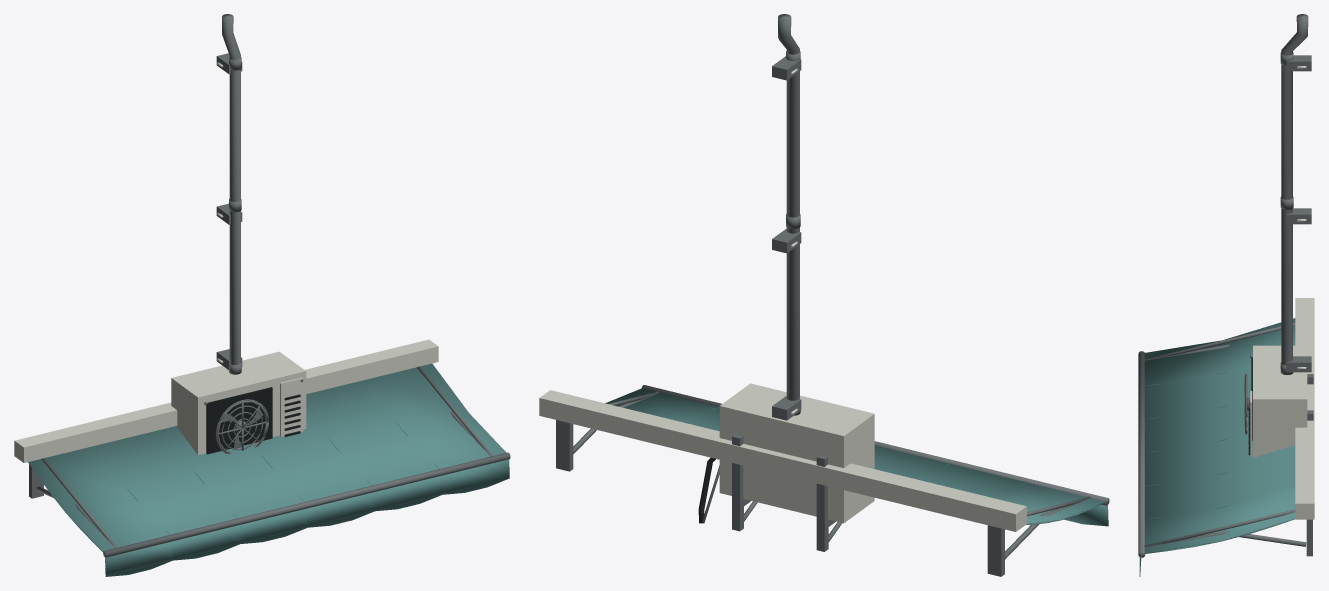
Rendered from street-kit.glb.
3 renders of one model, left to right at view 1: azimuth 30°, elevation 25°; view 2: azimuth 150°, elevation 25°; view 3: azimuth 270°, elevation 25°, orthographic. The views are drawn at different scales.
Visible parts, largest first — view 1: awning_far__canvas, awning_far__enamel, service_far__enamel, pipe_near__metal, service_near__enamel, awning_near__metal, awning_near__enamel, service_far__recess, awning_near__canvas, awning_far__metal, service_near__metal, service_near__recess (+1 smaller); view 2: service_far__enamel, awning_near__enamel, awning_far__enamel, awning_far__canvas, pipe_near__metal, service_near__enamel, awning_far__metal, awning_near__metal, service_far__metal, pipe_far__metal, awning_near__canvas; view 3: awning_far__canvas, pipe_near__metal, service_near__enamel, awning_far__enamel, service_far__enamel, awning_far__metal, awning_near__metal, awning_near__enamel, pipe_far__metal, awning_near__canvas, service_far__metal.
Part boxes in pixels (left/top/right/bottom): awning_far__canvas: left=28, top=363, right=509, bottom=576; awning_far__enamel: left=14, top=339, right=438, bottom=462; service_far__enamel: left=171, top=351, right=306, bottom=455; pipe_near__metal: left=217, top=14, right=241, bottom=374; service_near__enamel: left=172, top=352, right=304, bottom=454; awning_near__metal: left=29, top=452, right=510, bottom=557; awning_near__enamel: left=15, top=342, right=436, bottom=459; service_far__recess: left=206, top=387, right=272, bottom=453; awning_near__canvas: left=29, top=380, right=508, bottom=576; awning_far__metal: left=29, top=366, right=493, bottom=557; service_near__metal: left=204, top=379, right=303, bottom=453; service_near__recess: left=207, top=394, right=300, bottom=454; service_far__enamel: left=719, top=383, right=874, bottom=523; awning_near__enamel: left=543, top=391, right=1022, bottom=528; awning_far__enamel: left=539, top=390, right=1026, bottom=531; awning_far__canvas: left=605, top=388, right=1108, bottom=524; pipe_near__metal: left=772, top=14, right=800, bottom=419; service_near__enamel: left=721, top=402, right=862, bottom=520; awning_far__metal: left=556, top=391, right=1109, bottom=576; awning_near__metal: left=557, top=385, right=1109, bottom=575; service_far__metal: left=732, top=434, right=835, bottom=551; pipe_far__metal: left=772, top=14, right=801, bottom=420; awning_near__canvas: left=682, top=406, right=1108, bottom=526; awning_far__canvas: left=1139, top=318, right=1295, bottom=576; pipe_near__metal: left=1280, top=14, right=1310, bottom=374; service_near__enamel: left=1255, top=347, right=1305, bottom=457; awning_far__enamel: left=1295, top=298, right=1314, bottom=519; service_far__enamel: left=1250, top=345, right=1307, bottom=457; awning_far__metal: left=1138, top=323, right=1312, bottom=557; awning_near__metal: left=1138, top=351, right=1311, bottom=557; awning_near__enamel: left=1298, top=422, right=1311, bottom=517; pipe_far__metal: left=1286, top=14, right=1311, bottom=372; awning_near__canvas: left=1140, top=369, right=1295, bottom=576; service_far__metal: left=1244, top=374, right=1313, bottom=433.
Size of the model in its own units: 3.49 by 3.69 by 1.26.
